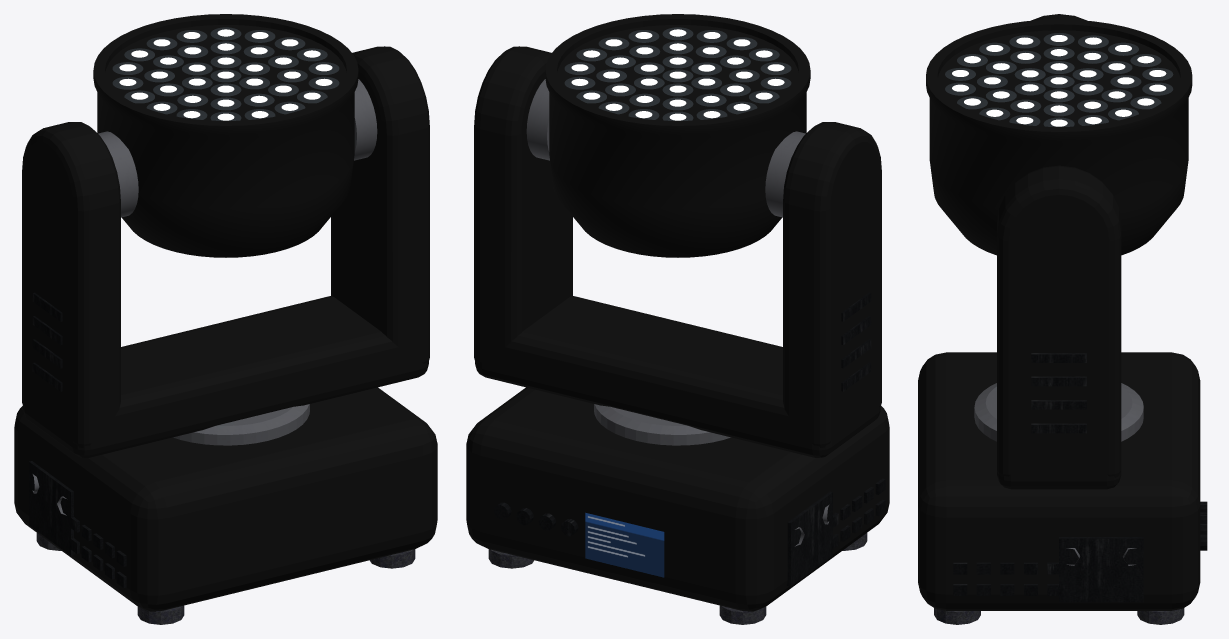
Rendered from wash_aurora.gltf.
3 views of the same model, side by side, from view 1: azimuth 30°, elevation 25°; view 2: azimuth 150°, elevation 25°; view 3: azimuth 270°, elevation 25° (orthographic).
Visible parts, largest first — view 1: Yoke, Base, Head; view 2: Yoke, Base, Head; view 3: Base, Head, Yoke.
Boxes of the visible parts, x1=… form: Yoke: x1=22, y1=46, x2=429, y2=457; Base: x1=14, y1=387, x2=437, y2=624; Head: x1=93, y1=14, x2=377, y2=257; Yoke: x1=474, y1=46, x2=881, y2=457; Base: x1=466, y1=387, x2=889, y2=624; Head: x1=526, y1=14, x2=810, y2=257; Base: x1=918, y1=352, x2=1207, y2=624; Head: x1=926, y1=19, x2=1192, y2=255; Yoke: x1=997, y1=14, x2=1121, y2=489.
Bounding box in the file's own units: 0.354 × 0.4528 × 0.2525.
7 materials, 5 textured.
